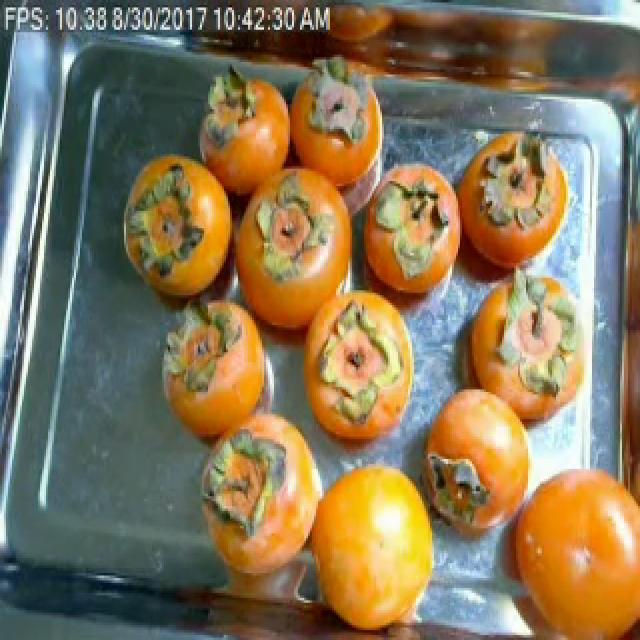Fruit: (292, 444, 438, 640)
